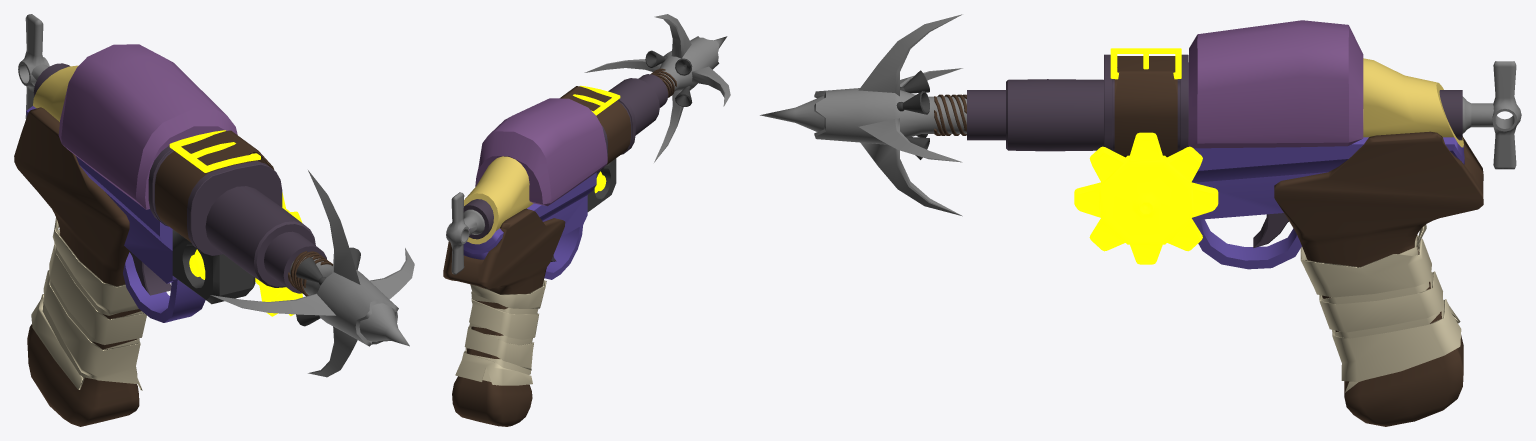
File: GrappleFBXRetop.fbx
3 renders of one model, left to right at view 1: azimuth 30°, elevation 25°; view 2: azimuth 150°, elevation 25°; view 3: azimuth 270°, elevation 25°, orthographic. The views are drawn at different scales.
Visible parts, largest first — view 1: PurpleExtrusion, Handle, BarrelMain, HandleWrap, HarpoonHook, TriggerGripConnector, Belt, WindupGearHolder, Pulley, BeltBuckle, YellowStructural, GoldenGear (+3 smaller); view 2: Handle, PurpleExtrusion, HandleWrap, HarpoonHook, TriggerGripConnector, YellowStructural, BarrelMain, Belt, Pulley, HookThrusters, WindupGearHolder, BeltBuckle (+1 smaller); view 3: Handle, PurpleExtrusion, HandleWrap, GoldenGear, BarrelMain, HarpoonHook, TriggerGripConnector, Belt, YellowStructural, Pulley, HookThrusters, BeltBuckle (+2 smaller).
Part boxes in pixels (box(x1,y1,x2,y2)): PurpleExtrusion: box(58, 44, 237, 209); Handle: box(14, 107, 141, 426); BarrelMain: box(33, 63, 326, 293); HandleWrap: box(31, 218, 146, 390); HarpoonHook: box(210, 170, 414, 377); TriggerGripConnector: box(26, 106, 205, 322); Belt: box(155, 130, 274, 242); WindupGearHolder: box(172, 229, 255, 304); Pulley: box(18, 14, 49, 118); BeltBuckle: box(169, 130, 260, 172); YellowStructural: box(33, 65, 78, 121); GoldenGear: box(189, 192, 302, 316); Handle: box(443, 208, 565, 426); PurpleExtrusion: box(475, 98, 607, 206); HandleWrap: box(455, 280, 546, 385); HarpoonHook: box(584, 14, 730, 162); TriggerGripConnector: box(463, 172, 596, 279); YellowStructural: box(464, 156, 533, 244); BarrelMain: box(463, 74, 668, 239); Belt: box(560, 86, 630, 164); Pulley: box(446, 192, 484, 274); HookThrusters: box(645, 50, 692, 106); WindupGearHolder: box(587, 158, 616, 211); BeltBuckle: box(573, 85, 620, 115); Handle: box(1274, 131, 1483, 426); PurpleExtrusion: box(1188, 20, 1363, 148); HandleWrap: box(1300, 224, 1461, 392); GoldenGear: box(1074, 132, 1218, 264); BarrelMain: box(967, 54, 1462, 151); HarpoonHook: box(760, 14, 966, 216); TriggerGripConnector: box(1192, 137, 1464, 269); Belt: box(1114, 56, 1177, 157); YellowStructural: box(1363, 58, 1463, 147); Pulley: box(1462, 61, 1521, 169); HookThrusters: box(896, 70, 929, 159); BeltBuckle: box(1110, 48, 1181, 79).
Size of the model in its own units: 3.45 by 6.85 by 11.78.
